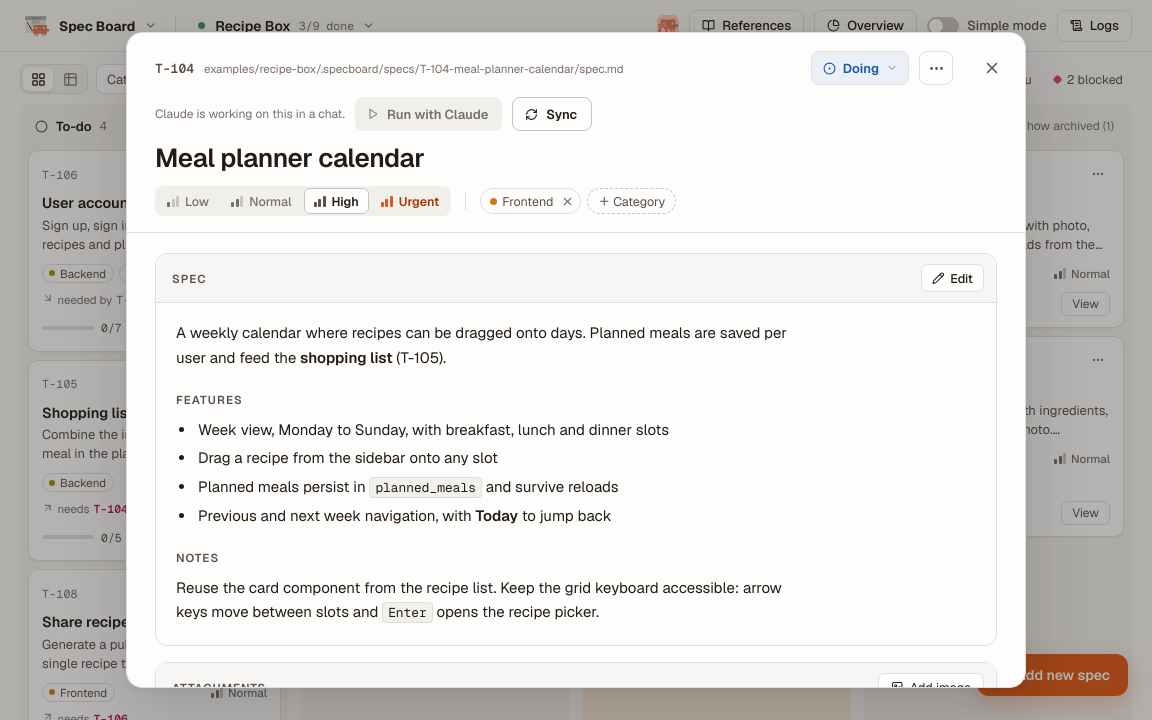
Test: Sync one card from its detail › manual mode gives the command with the spec ID
Click the button "Sync": (552, 114) top-left (512, 97), bottom-right (592, 131)
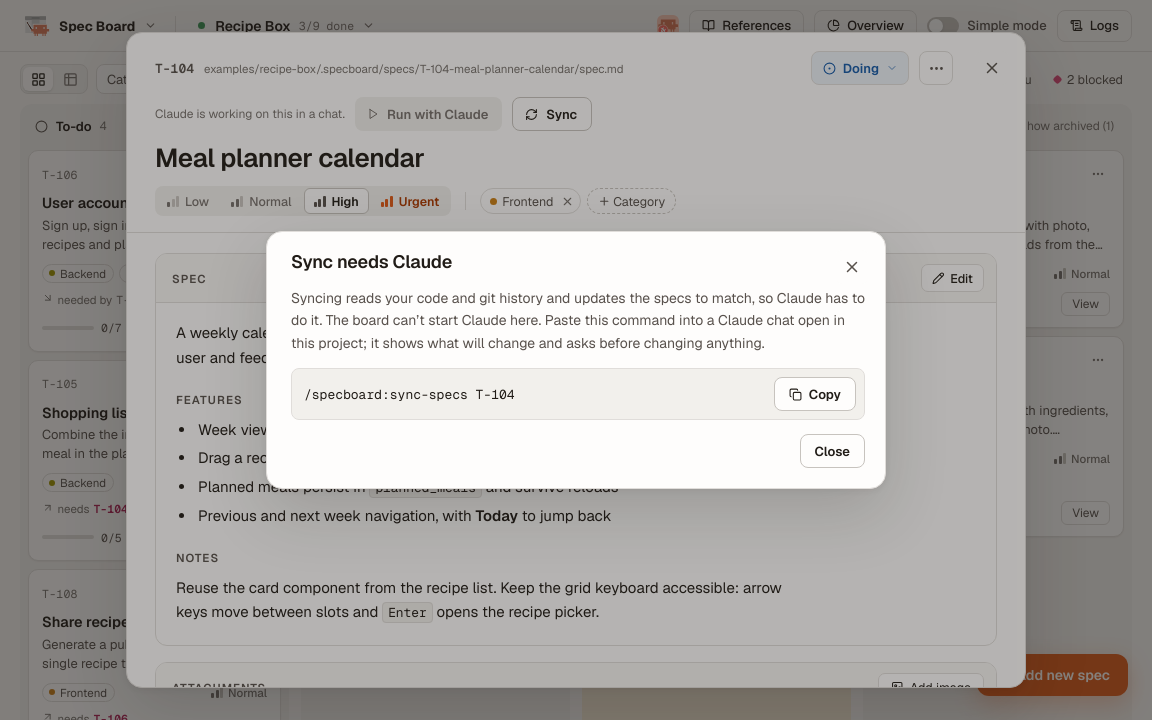
Check: the text "/specboard:sync-specs T-104" is shown, box top-left (304, 386), bottom-right (515, 403)
